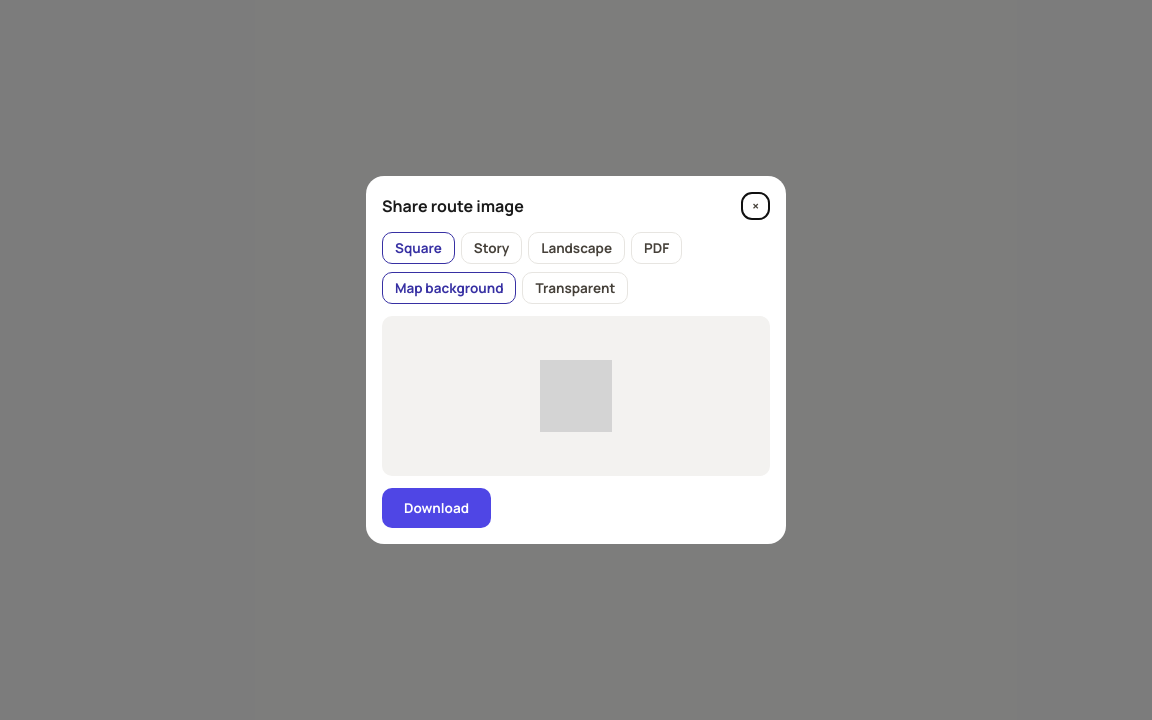
Test: ShareImageModal › disables download and shows an error when rendering fails
This screenshot has width=1152, height=720.
Expected: the button "Download" is enabled, [382,488,491,528]
What coordinates should you click on to do the following:
click the button "Landscape"
I would click on:
 (577, 248)
Its box is [528,232,625,264].
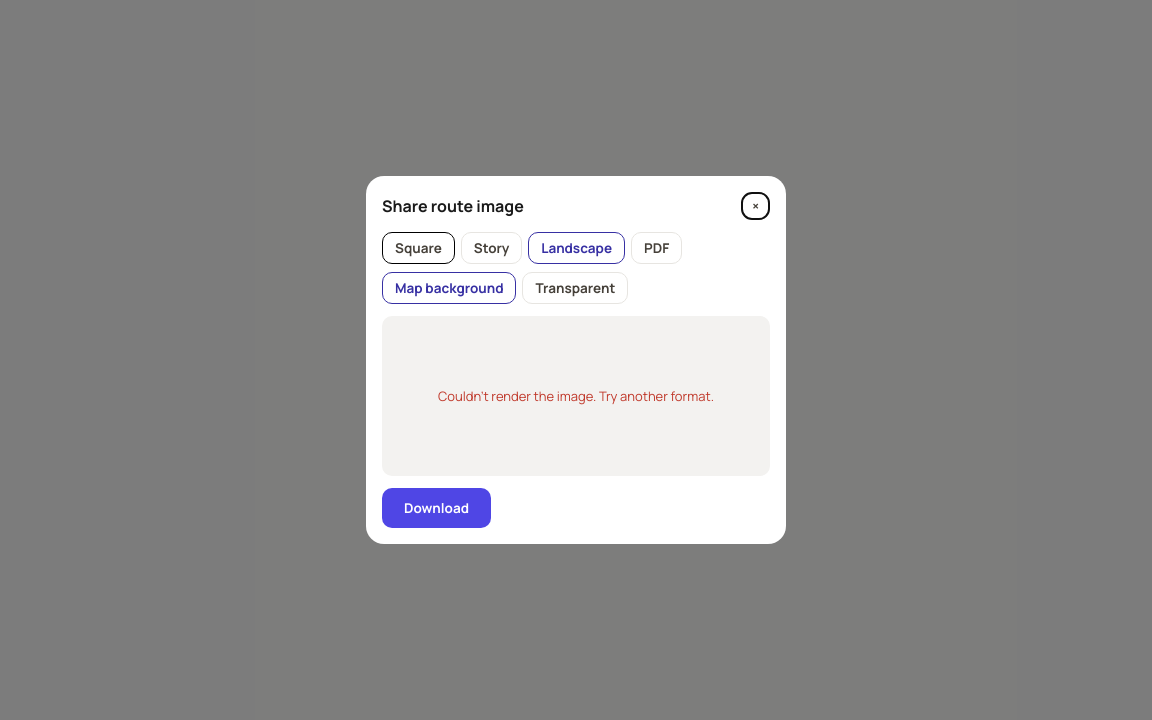
Expected: the button "Download" is disabled, [382,488,491,528]
Expected: the text "Couldn't render the image. Try another format." is shown, [438,387,714,405]
